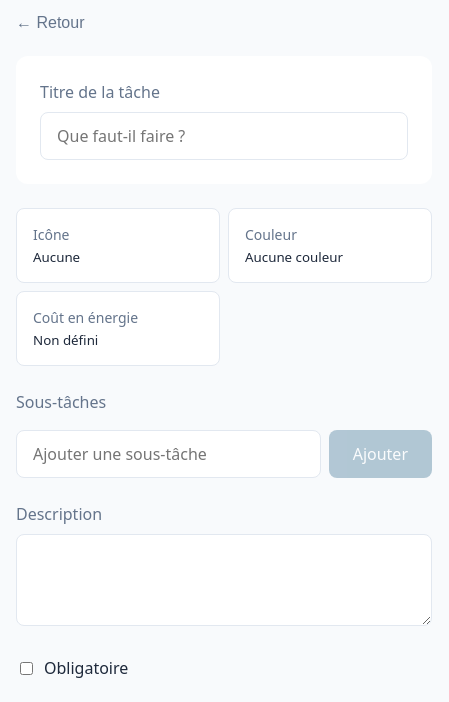
Test: E21CreateTaskV2 › Coût en énergie se referme après sélection d'une valeur (#37)
Click the button with aria-label "Modifier Coût en énergie".
click(118, 328)  # box [33,308,203,349]
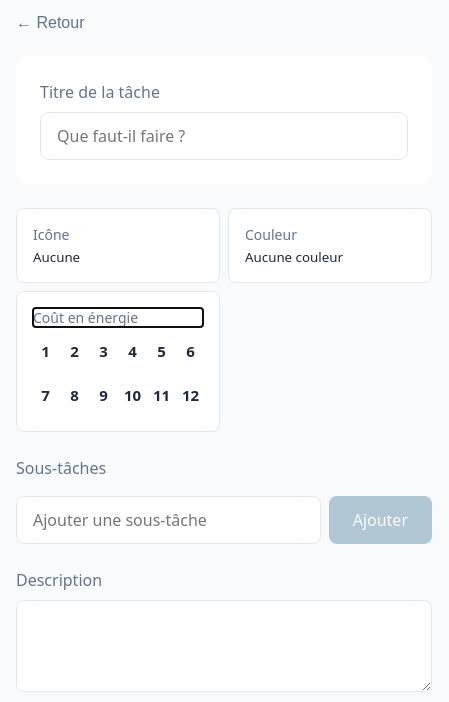
Click the button "5".
click(162, 351)  # box [149,331,174,371]
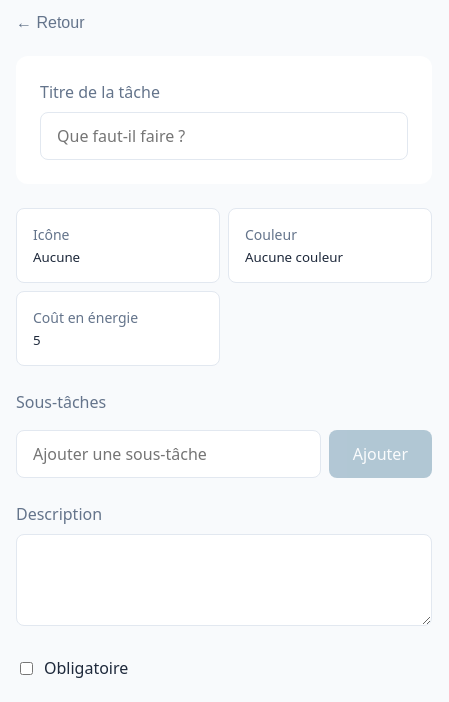
Result: the button with aria-label "Modifier Coût en énergie" is collapsed at [33,308,203,349]
